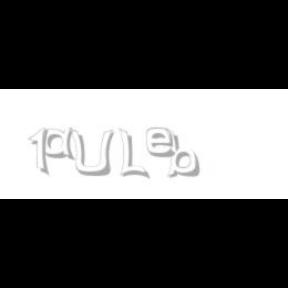1: (28, 128, 50, 176)
L: (119, 128, 147, 180)
U: (68, 128, 114, 178)
a: (42, 128, 79, 160)
b: (165, 128, 203, 178)
e: (146, 128, 180, 158)
